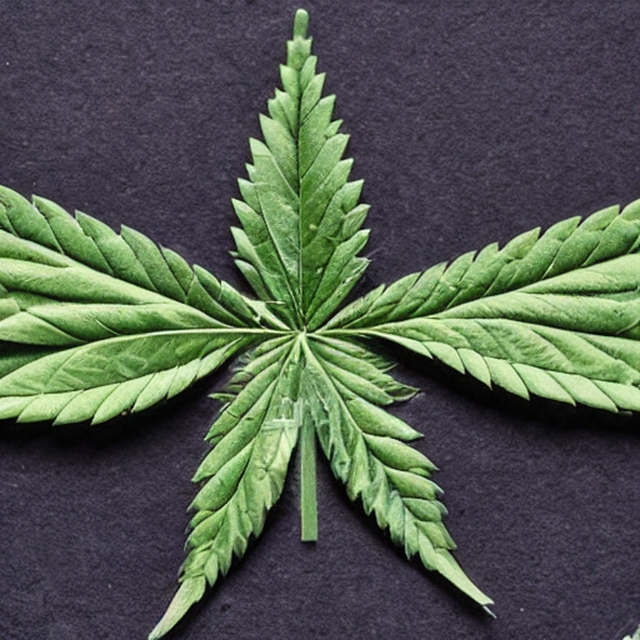Marijuana Leaf: (0, 7, 640, 638)
